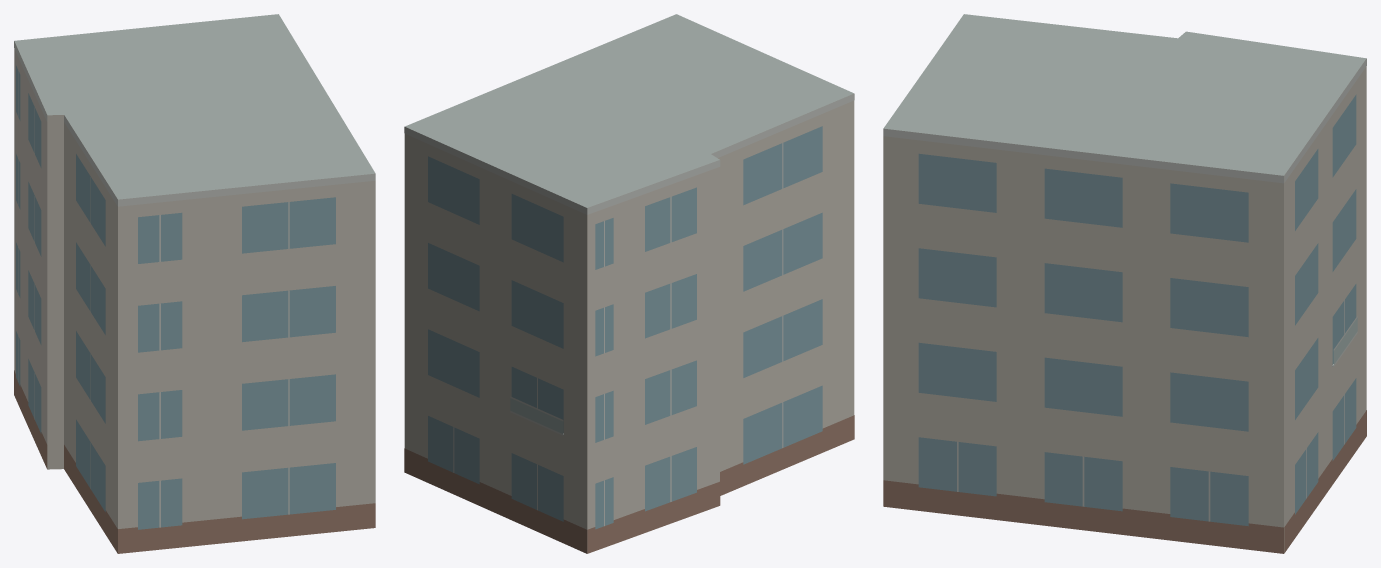
The model's file is survey-upis-32869201.glb.
3 renders of one model, left to right at view 1: azimuth 30°, elevation 25°; view 2: azimuth 150°, elevation 25°; view 3: azimuth 270°, elevation 25°, orthographic. The views are drawn at different scales.
Visible parts, largest first — view 1: survey-upis-32869201.tmp; view 2: survey-upis-32869201.tmp; view 3: survey-upis-32869201.tmp.
Boxes of the visible parts, x1,y1,x2,y2 form: survey-upis-32869201.tmp: (14, 14, 375, 553); survey-upis-32869201.tmp: (404, 14, 854, 553); survey-upis-32869201.tmp: (883, 14, 1366, 553).
Size of the model in its own units: 11.21 by 12.2 by 14.15.
